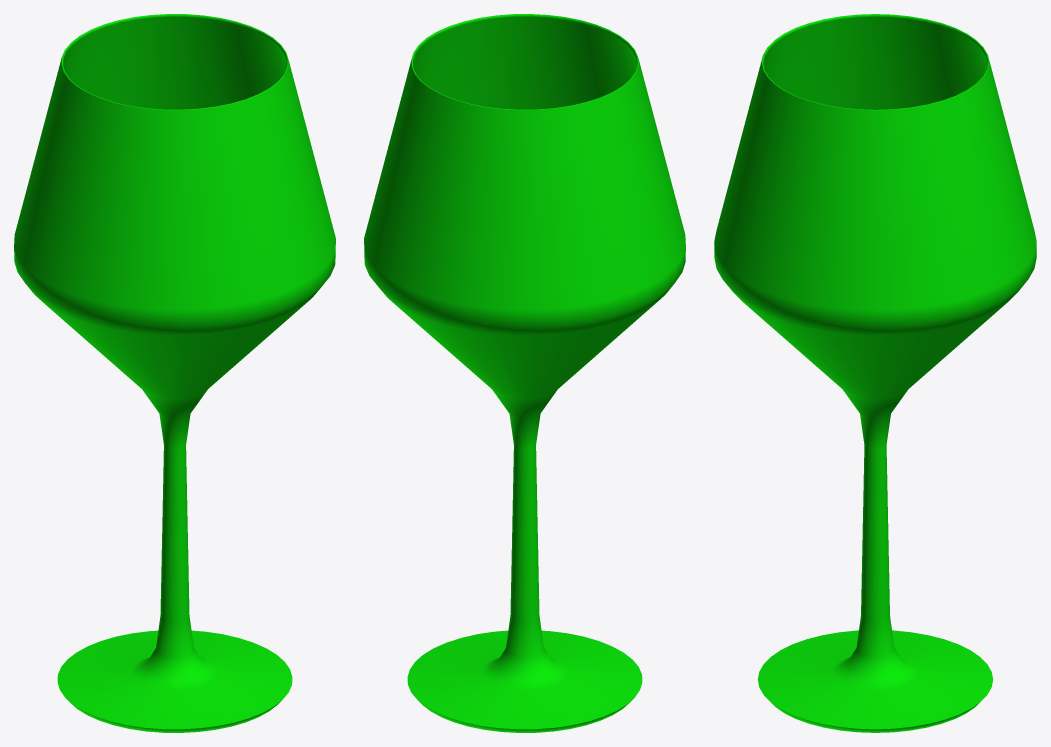
The model's file is Glass7_LOD_2.fbx.
3 renders of one model, left to right at view 1: azimuth 30°, elevation 25°; view 2: azimuth 150°, elevation 25°; view 3: azimuth 270°, elevation 25°, orthographic.
Visible parts, largest first — view 1: Glass7_LOD_2; view 2: Glass7_LOD_2; view 3: Glass7_LOD_2.
Boxes of the visible parts, x1,y1,x2,y2 form: Glass7_LOD_2: [14, 14, 335, 732]; Glass7_LOD_2: [364, 14, 685, 732]; Glass7_LOD_2: [714, 14, 1036, 732].
Bounding box in the file's own units: 2.37 × 5.08 × 2.37.
